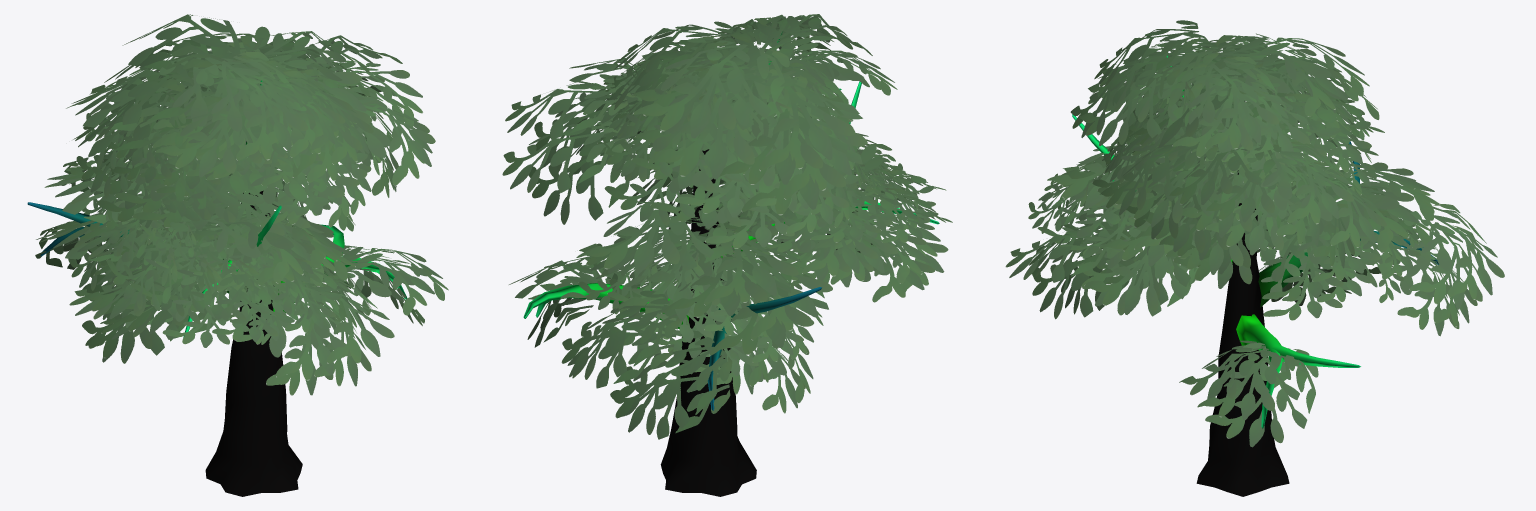
The model's file is pear_tree_LOD0.fbx.
The picture shows the model from 3 angles, left to right: view 1: azimuth 30°, elevation 25°; view 2: azimuth 150°, elevation 25°; view 3: azimuth 270°, elevation 25°; orthographic projection. The views are drawn at different scales.
Parts seen in each view (by area): view 1: polySurface523; view 2: polySurface523; view 3: polySurface523.
Part boxes in pixels (x1,y1,x2,y2): polySurface523: [27, 14, 448, 496]; polySurface523: [502, 14, 952, 496]; polySurface523: [1005, 20, 1504, 496].
Bounding box in the file's own units: 3.01 × 3.14 × 3.52.
